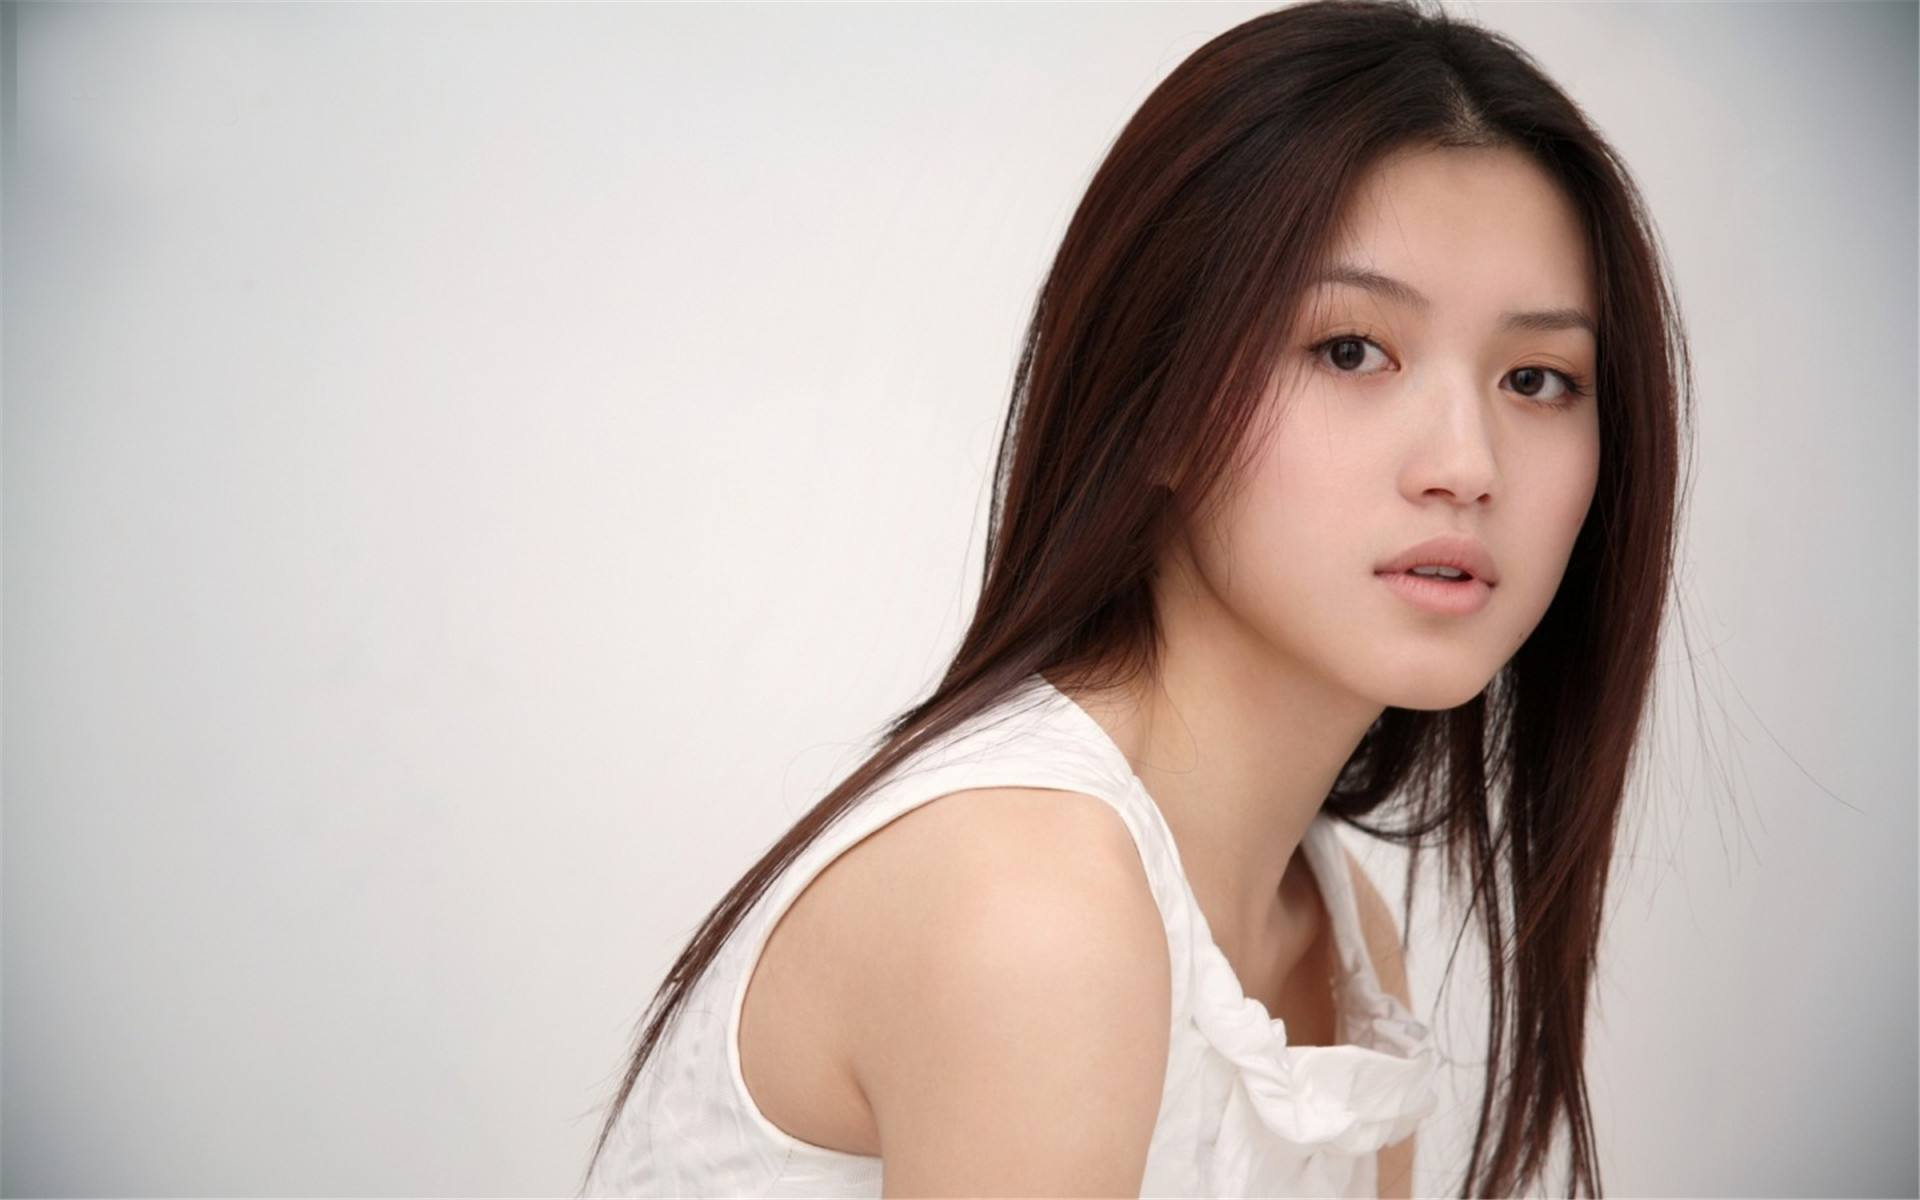person: (1098, 1, 1696, 882)
